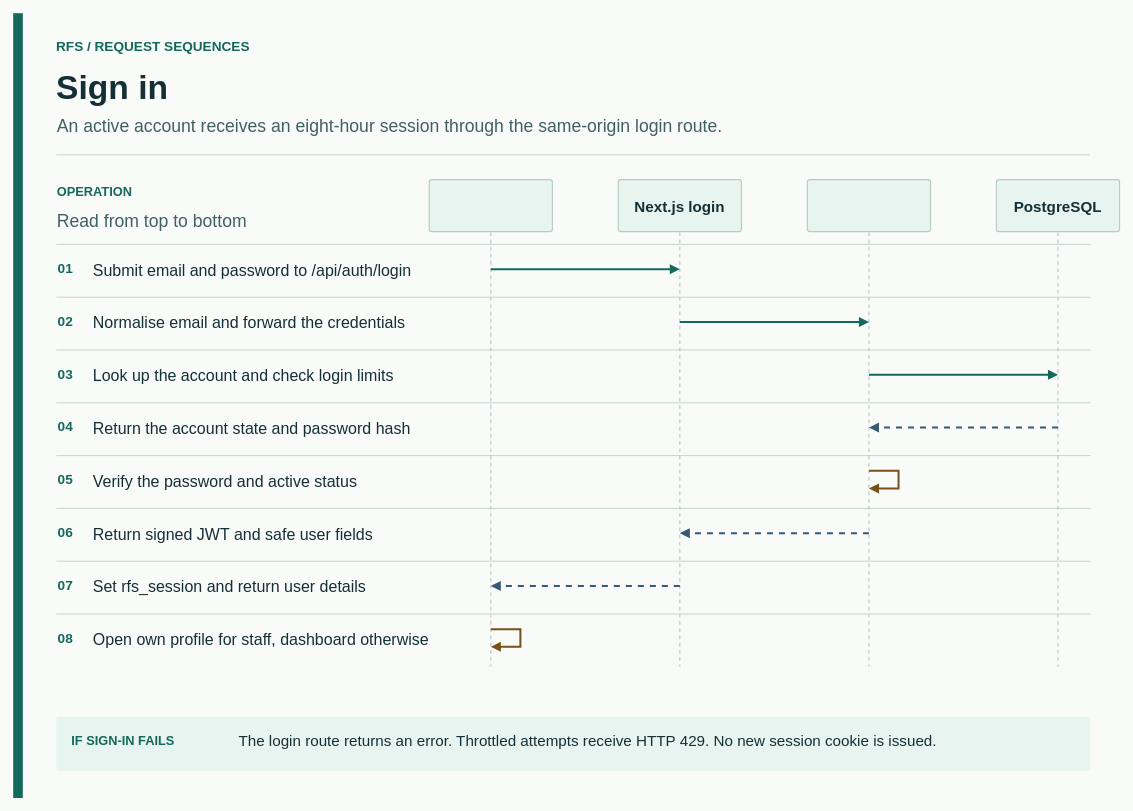
The diagram is 1133 pixels wide and 811 high, and some of its shapes have lost their labels. Each missing label, with the centre of its shape:
"Browser" belongs at point 490,205.
"Flask auth" belongs at point 868,205.
